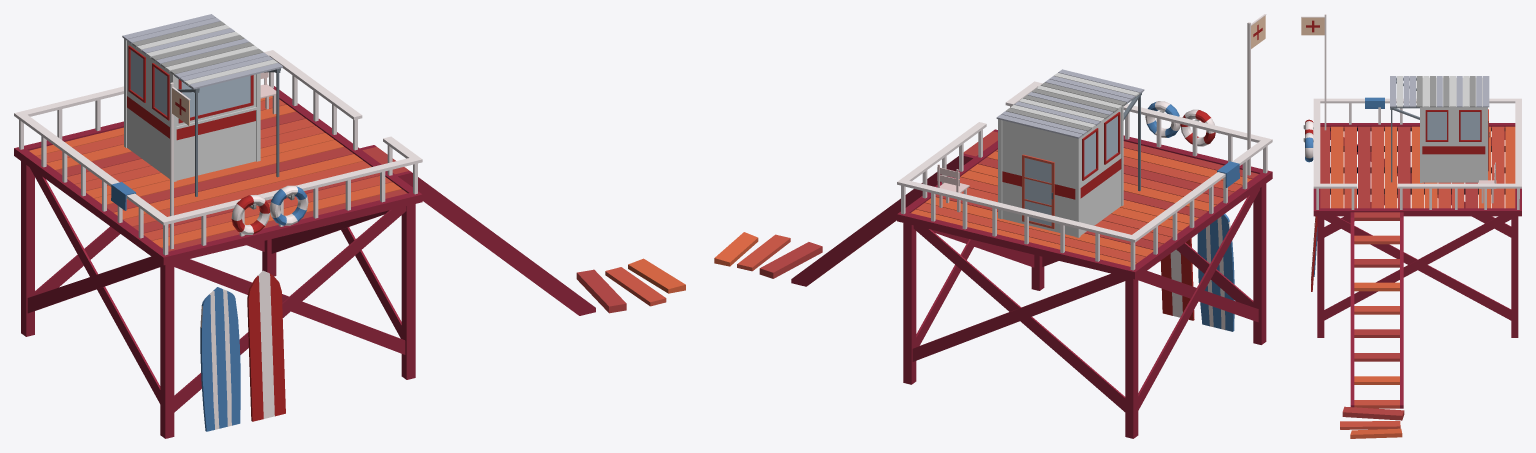
The model's file is Tower.fbx.
The picture shows the model from 3 angles, left to right: view 1: azimuth 30°, elevation 25°; view 2: azimuth 150°, elevation 25°; view 3: azimuth 270°, elevation 25°; orthographic projection. The views are drawn at different scales.
Visible parts, largest first — view 1: Tower; view 2: Tower; view 3: Tower.
Boxes of the visible parts, box(x1,y1,x2,y2) form: Tower: box(14, 14, 685, 438); Tower: box(714, 14, 1272, 438); Tower: box(1301, 14, 1521, 438).
Bounding box in the file's own units: 530 × 322 × 265.
1 material, 1 textured.
